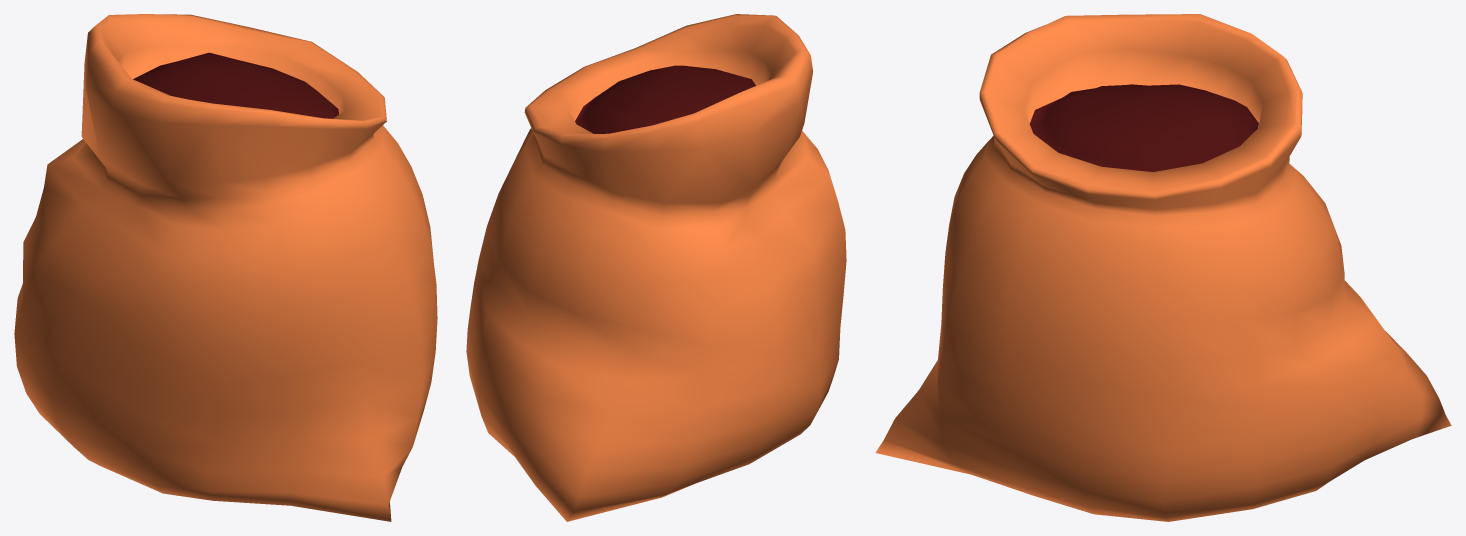
File: low_poly_opened_sack_of_food.glb
3 views of the same model, side by side, from view 1: azimuth 30°, elevation 25°; view 2: azimuth 150°, elevation 25°; view 3: azimuth 270°, elevation 25° (orthographic). The views are drawn at different scales.
Visible parts, largest first — view 1: Item8; view 2: Item8; view 3: Item8.
Boxes of the visible parts, x1,y1,x2,y2 form: Item8: (14,14,437,521); Item8: (466,14,846,521); Item8: (875,14,1451,521).
Size of what is drawn, in the model's own units: 0.3757 by 0.3965 by 0.5267.
Materials: 1 (1 with a texture image).
